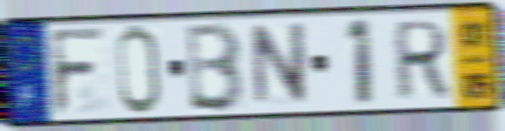0: (114, 22, 164, 118)
1: (344, 16, 379, 108)
B: (185, 19, 247, 115)
F: (47, 24, 109, 119)
N: (249, 20, 311, 111)
R: (393, 17, 451, 104)
